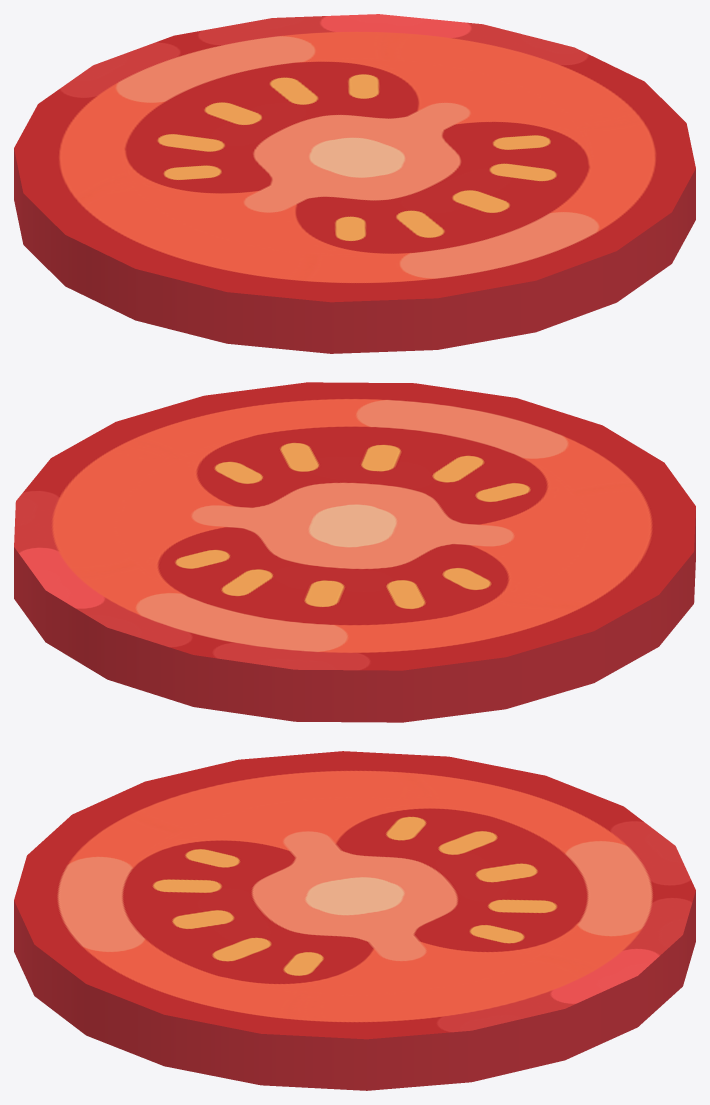
File: Tomato_Slice_Tomato_0.glb
3 views of the same model, one above another, from view 1: azimuth 30°, elevation 25°; view 2: azimuth 150°, elevation 25°; view 3: azimuth 270°, elevation 25° (orthographic).
Visible parts, largest first — view 1: Tomato_Slice_Tomato_0; view 2: Tomato_Slice_Tomato_0; view 3: Tomato_Slice_Tomato_0.
Boxes of the visible parts, box(x1,y1,x2,y2) form: Tomato_Slice_Tomato_0: box(14, 14, 695, 353); Tomato_Slice_Tomato_0: box(14, 382, 695, 722); Tomato_Slice_Tomato_0: box(14, 751, 695, 1090).
Bounding box in the file's own units: 0.1199 × 0.01 × 0.1199.
1 material, 1 textured.
